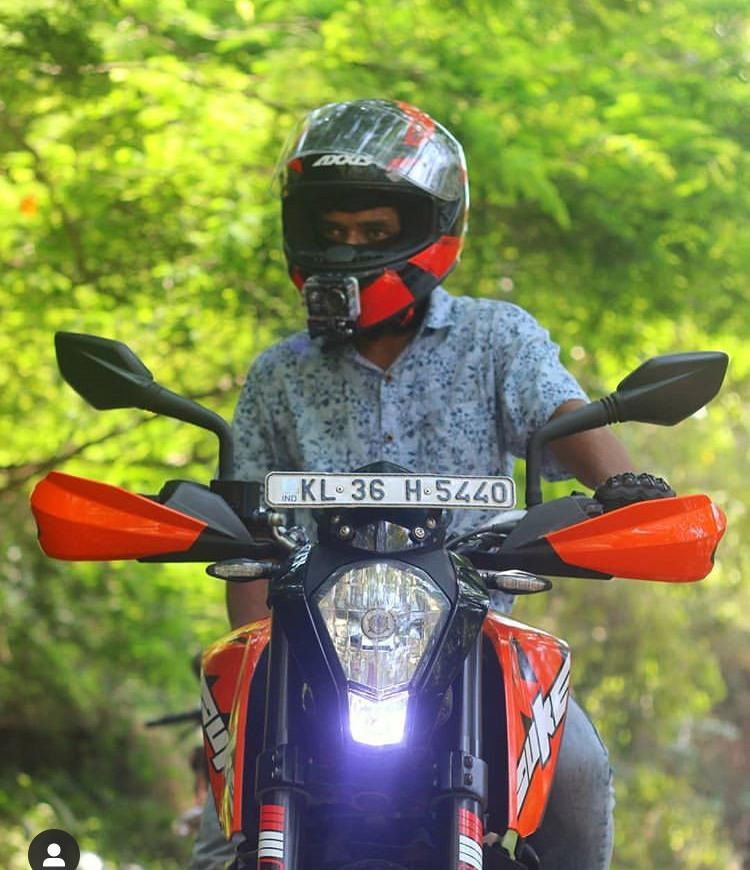helmet: (271, 97, 471, 343)
